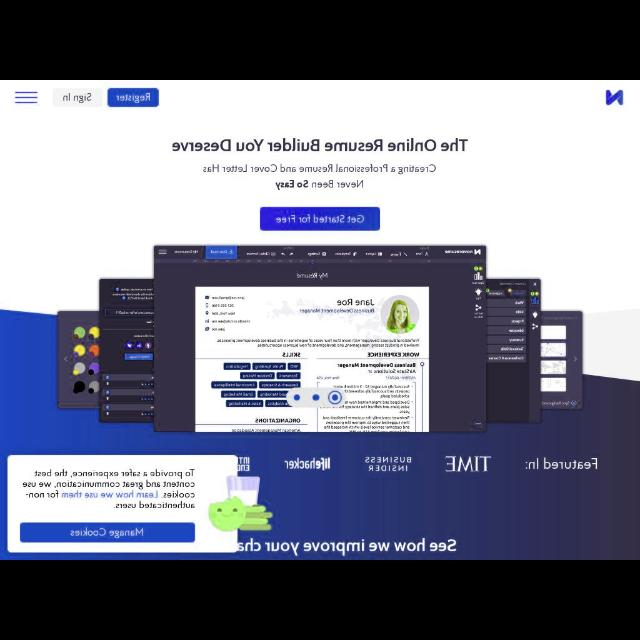icon: (12, 88, 40, 108)
iframe: (8, 458, 238, 552)
image: (53, 242, 585, 436), (600, 85, 630, 108)
text: (169, 137, 469, 193), (237, 537, 458, 555), (526, 455, 600, 473), (274, 212, 366, 225), (366, 454, 416, 474), (443, 456, 495, 472), (284, 457, 334, 473), (115, 90, 154, 104), (63, 90, 93, 104), (236, 454, 252, 470)
textbutton: (262, 208, 380, 230), (106, 88, 158, 105), (56, 88, 102, 104)
